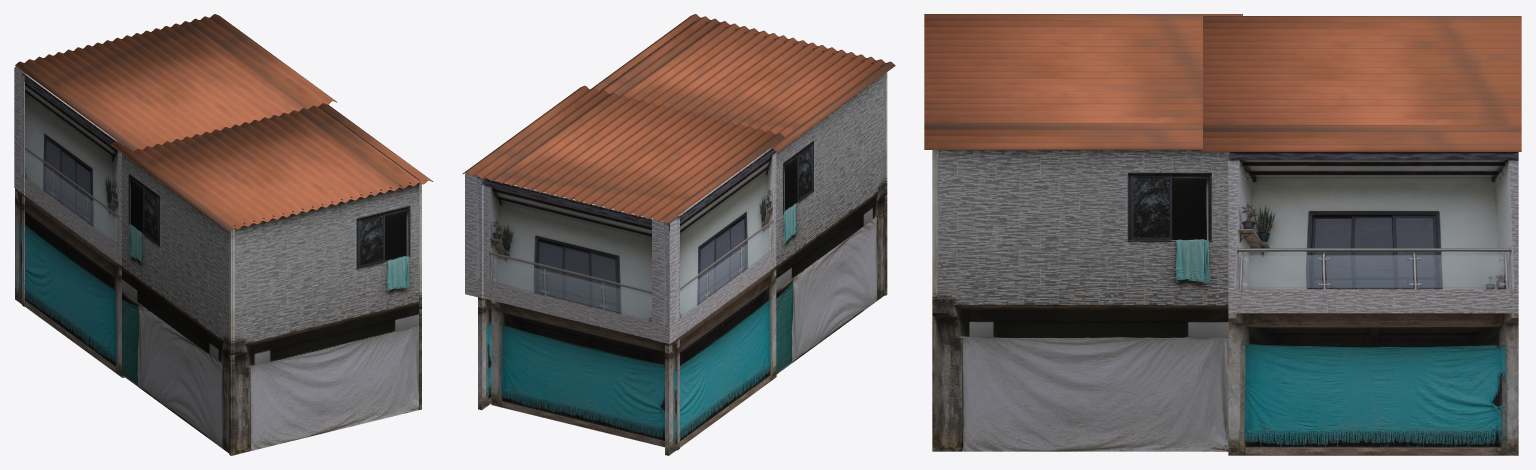
The model's file is casa_2_derecha_04.fbx.
3 views of the same model, side by side, from view 1: azimuth 30°, elevation 25°; view 2: azimuth 150°, elevation 25°; view 3: azimuth 270°, elevation 25° (orthographic). The views are drawn at different scales.
Parts seen in each view (by area): view 1: casa_camino2_derecha_04B.002, casa_camino2_derecha_04B.003, Techo_04.001, casa_camino2_derecha_04A.003, Techo_04, casa_camino2_derecha_04A.002, casa_camino2_derecha_04B.001; view 2: casa_camino2_derecha_04A.002, casa_camino2_derecha_04A.003, casa_camino2_derecha_04B.003, Techo_04.001, Techo_04, casa_camino2_derecha_04A.001, casa_camino2_derecha_04B.002; view 3: casa_camino2_derecha_04B.001, casa_camino2_derecha_04A.001, Techo_04.001, Techo_04.
Part boxes in pixels (x1,y1,x2,y2): casa_camino2_derecha_04B.002: [229, 182, 418, 455]; casa_camino2_derecha_04B.003: [122, 154, 234, 455]; Techo_04.001: [15, 14, 337, 152]; casa_camino2_derecha_04A.003: [15, 67, 124, 377]; Techo_04: [111, 103, 433, 231]; casa_camino2_derecha_04A.002: [14, 67, 25, 306]; casa_camino2_derecha_04B.001: [319, 106, 421, 409]; casa_camino2_derecha_04A.002: [483, 177, 679, 450]; casa_camino2_derecha_04A.003: [652, 144, 776, 455]; casa_camino2_derecha_04B.003: [776, 74, 884, 374]; Techo_04.001: [462, 85, 784, 223]; Techo_04: [591, 14, 895, 152]; casa_camino2_derecha_04A.001: [465, 172, 491, 410]; casa_camino2_derecha_04B.002: [705, 22, 887, 295]; casa_camino2_derecha_04B.001: [932, 150, 1228, 451]; casa_camino2_derecha_04A.001: [1228, 152, 1518, 455]; Techo_04.001: [1203, 16, 1521, 151]; Techo_04: [924, 14, 1242, 149].
Size of the model in its own units: 503 by 535 by 911.
